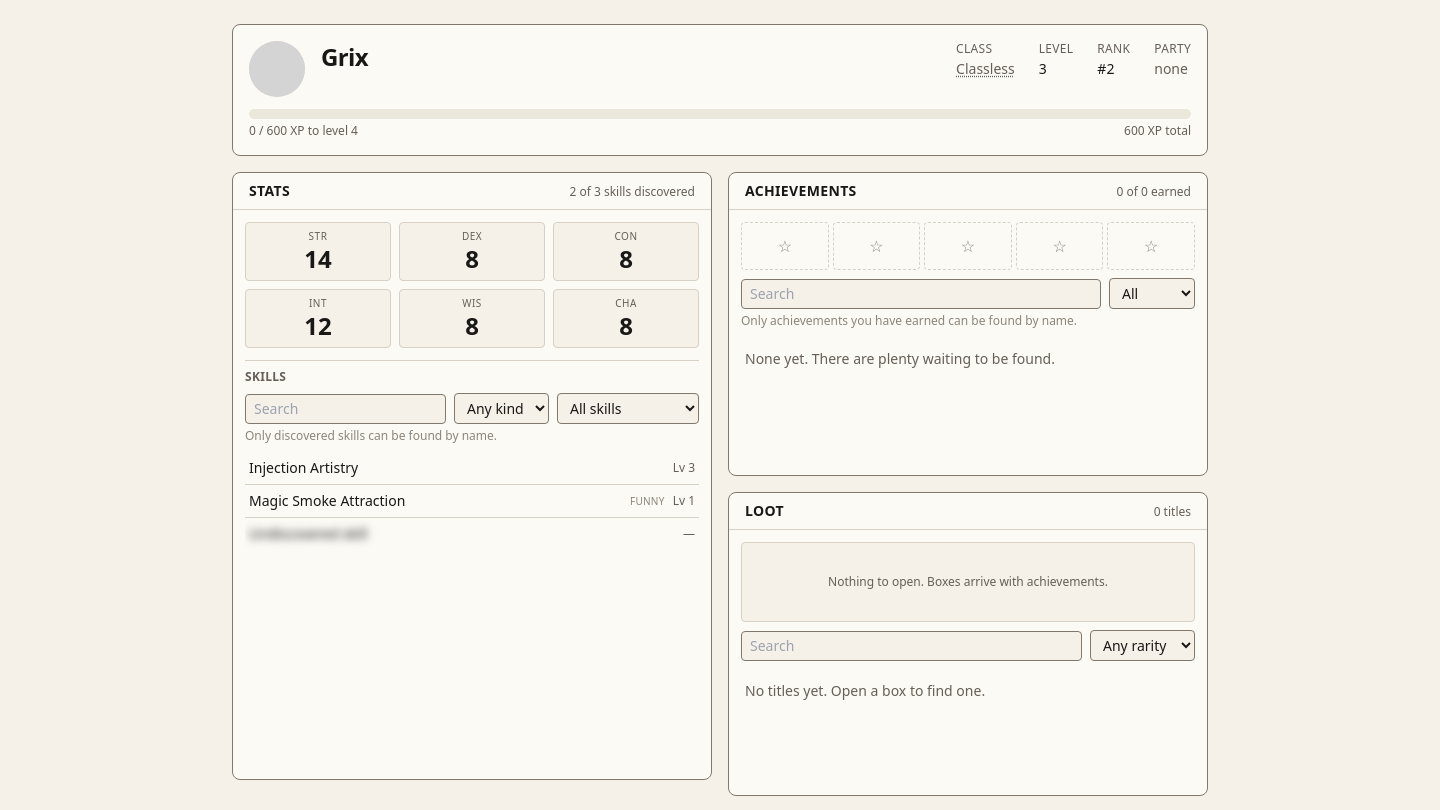
Test case: choosing a class › carries the System AI's nudge when there is one
Click the button "Classless". click: point(985, 69)
box: [956,59,1015,79]
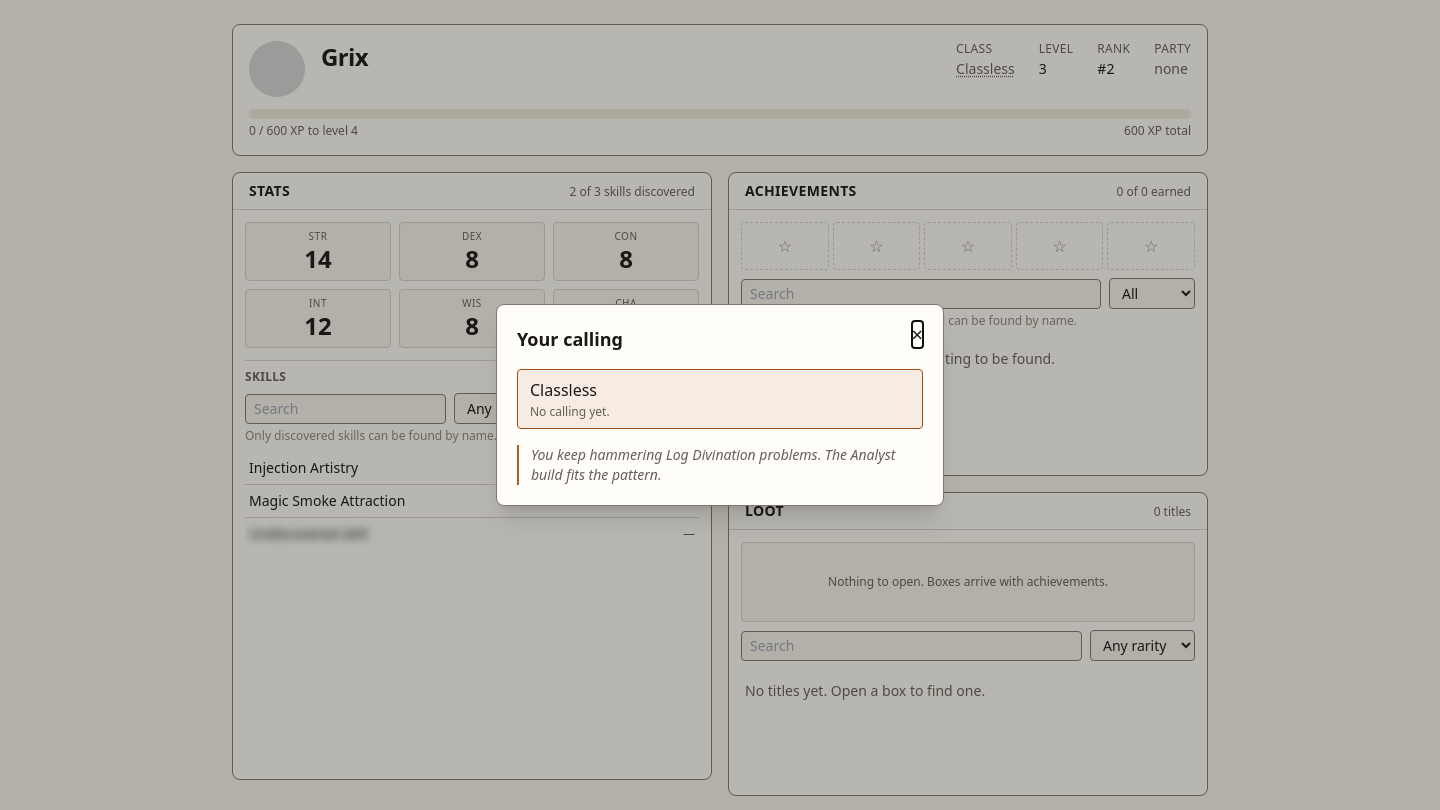
Result: the text "The Analyst build fits" is shown at [531,445,895,484]
